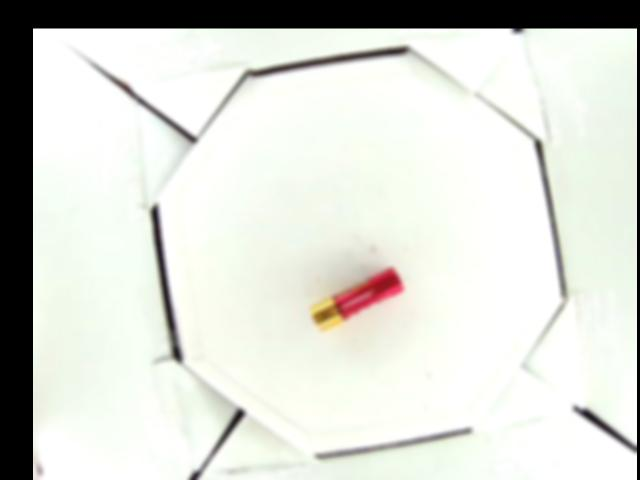Battery: (308, 265, 406, 331)
